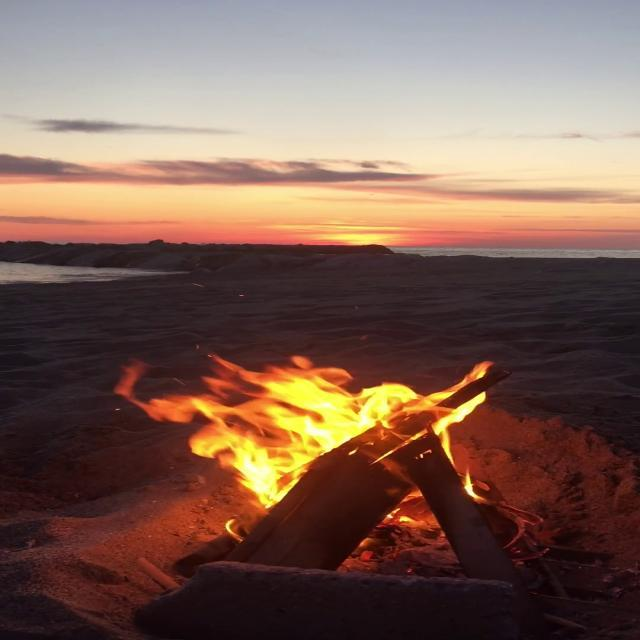Fire: (110, 343, 513, 526)
